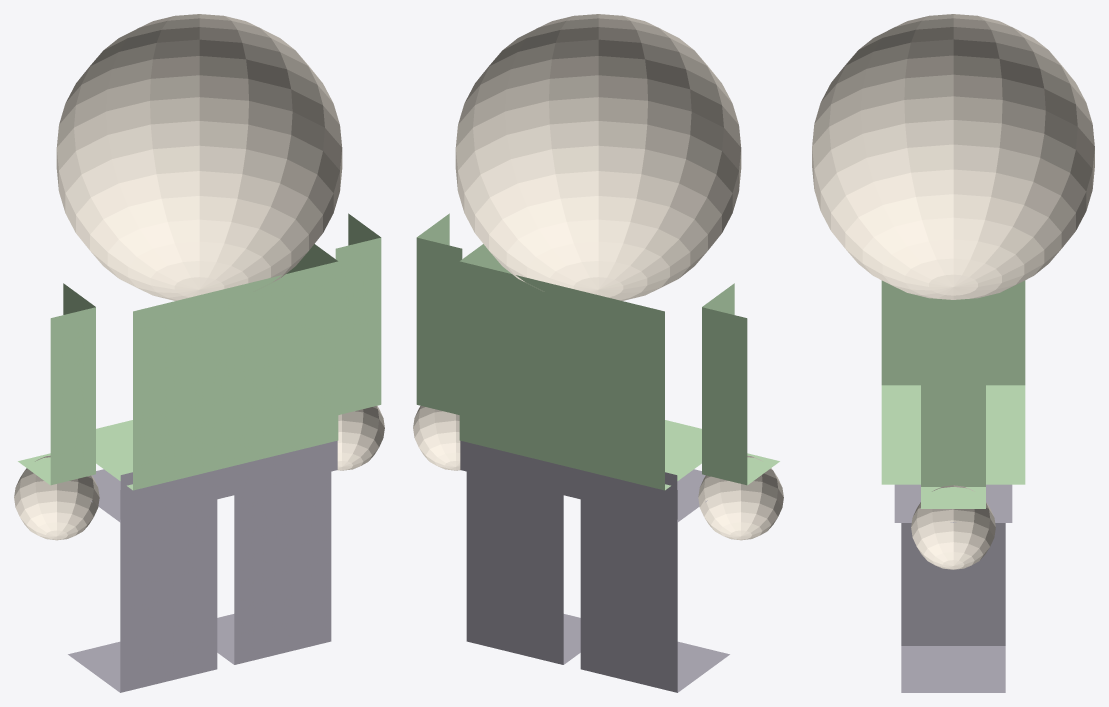
The model's file is chibi_hands_touch.glb.
3 views of the same model, side by side, from view 1: azimuth 30°, elevation 25°; view 2: azimuth 150°, elevation 25°; view 3: azimuth 270°, elevation 25° (orthographic).
Parts seen in each view (by area): view 1: Skin, Shirt, Pants; view 2: Skin, Shirt, Pants; view 3: Skin, Shirt, Pants.
Boxes of the visible parts, left/top/right/bottom form: Skin: left=14, top=14, right=384, bottom=540; Shirt: left=18, top=213, right=381, bottom=490; Pants: left=68, top=440, right=337, bottom=692; Skin: left=413, top=14, right=783, bottom=540; Shirt: left=416, top=213, right=779, bottom=490; Pants: left=460, top=440, right=729, bottom=692; Skin: left=812, top=14, right=1094, bottom=569; Shirt: left=881, top=280, right=1025, bottom=508; Pants: left=894, top=484, right=1012, bottom=692.
Size of the model in its own units: 0.63 by 1.04 by 0.4333.
